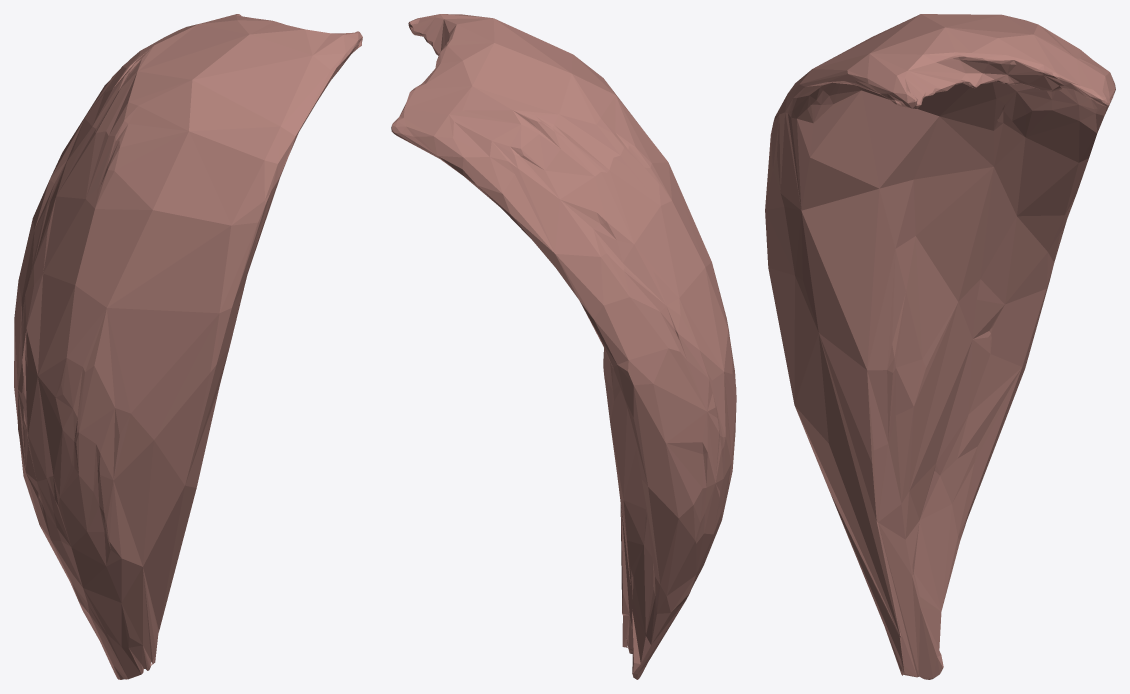
The model's file is FMA34683.glb.
3 views of the same model, side by side, from view 1: azimuth 30°, elevation 25°; view 2: azimuth 150°, elevation 25°; view 3: azimuth 270°, elevation 25° (orthographic). The views are drawn at different scales.
Parts seen in each view (by area): view 1: A.FMA34683; view 2: A.FMA34683; view 3: A.FMA34683.
Part boxes in pixels (bbox=[...]): A.FMA34683: bbox=[14, 14, 362, 679]; A.FMA34683: bbox=[391, 14, 736, 679]; A.FMA34683: bbox=[765, 14, 1115, 679].
Bounding box in the file's own units: 0.0806 × 0.1441 × 0.0625.
